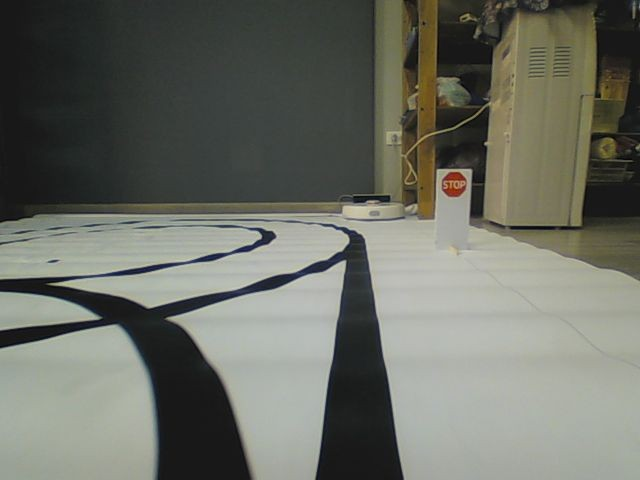Stop: (440, 170, 468, 198)
